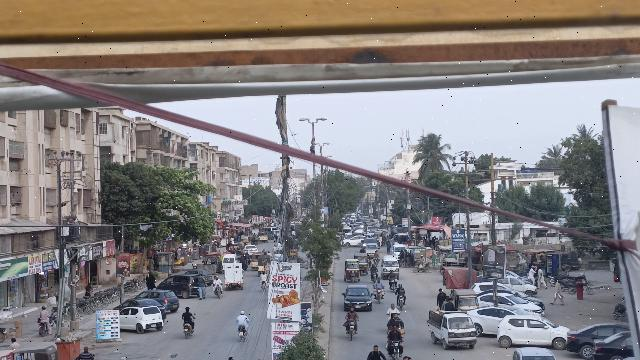Bike: (385, 338, 408, 358), (344, 317, 361, 342), (36, 319, 54, 337), (372, 285, 385, 307), (180, 322, 195, 341), (237, 324, 249, 344), (394, 293, 408, 310), (212, 284, 224, 299)
Car: (492, 314, 570, 351), (565, 322, 629, 357), (466, 304, 515, 337), (118, 305, 165, 334), (591, 328, 631, 360), (136, 287, 180, 313), (340, 284, 376, 313), (117, 297, 166, 312)
Person: (547, 277, 566, 306), (180, 304, 197, 325), (367, 342, 386, 360), (234, 308, 251, 325), (196, 273, 207, 299), (434, 288, 448, 308), (388, 323, 402, 342), (395, 282, 409, 297), (39, 305, 50, 324), (346, 305, 359, 321), (211, 274, 223, 285), (373, 277, 384, 288)
Rickshaw: (452, 289, 480, 315), (344, 258, 361, 284)
Suzuki: (426, 298, 479, 350)
Truck: (223, 261, 246, 293)
